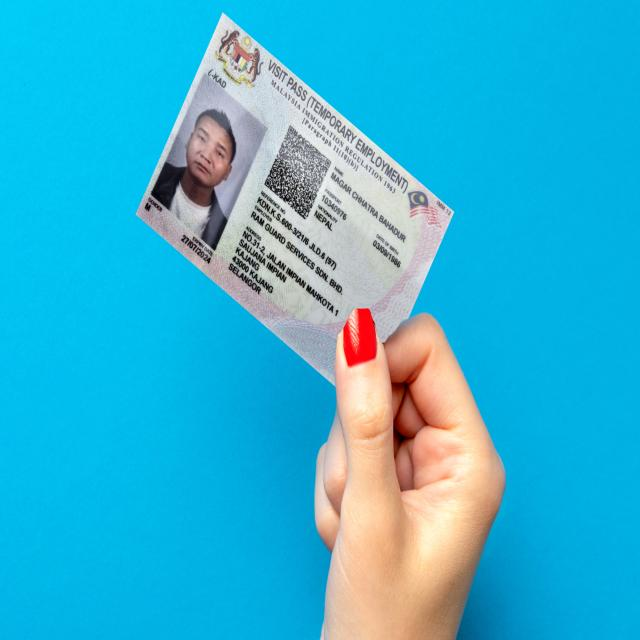ikad-temp: (131, 9, 456, 390)
